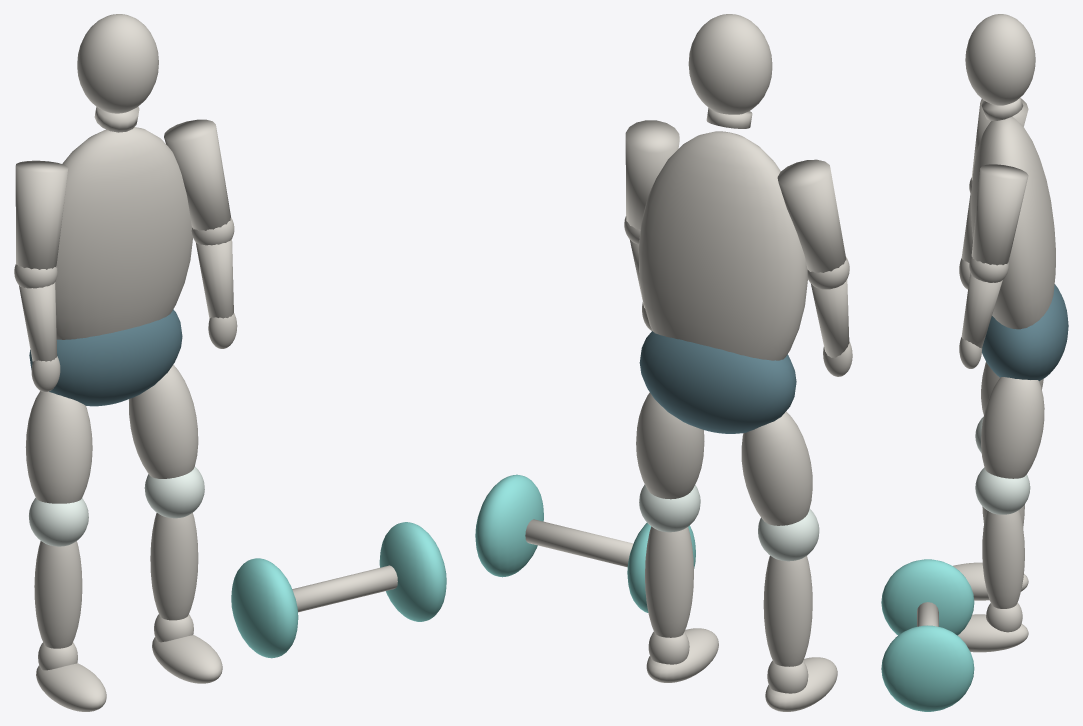
Rendered from movement-training.glb.
The picture shows the model from 3 angles, left to right: view 1: azimuth 30°, elevation 25°; view 2: azimuth 150°, elevation 25°; view 3: azimuth 270°, elevation 25°; orthographic projection. The views are drawn at different scales.
Visible parts, largest first — view 1: static #eee5d3, static #49bdb4, static #203c48, static #c7ddd2; view 2: static #eee5d3, static #203c48, static #49bdb4, static #c7ddd2; view 3: static #eee5d3, static #49bdb4, static #203c48, static #c7ddd2.
Boxes of the visible parts, <box> form: static #eee5d3: <box>14,14,397,711</box>; static #49bdb4: <box>231,522,446,658</box>; static #203c48: <box>29,309,182,406</box>; static #c7ddd2: <box>29,466,204,546</box>; static #eee5d3: <box>525,14,852,711</box>; static #203c48: <box>639,331,796,433</box>; static #49bdb4: <box>475,474,695,612</box>; static #c7ddd2: <box>639,484,819,561</box>; static #eee5d3: <box>917,14,1055,652</box>; static #49bdb4: <box>881,559,974,711</box>; static #203c48: <box>982,284,1068,380</box>; static #c7ddd2: <box>975,416,1030,514</box>.
Size of the model in its own units: 0.2654 by 0.4375 by 0.1224.
